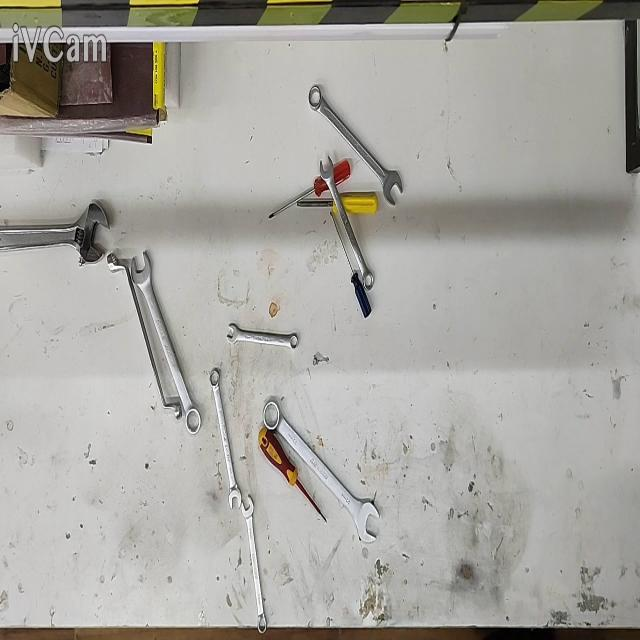Screwdriver: (258, 428, 328, 523), (268, 160, 350, 220), (330, 211, 372, 319), (296, 192, 378, 214)
